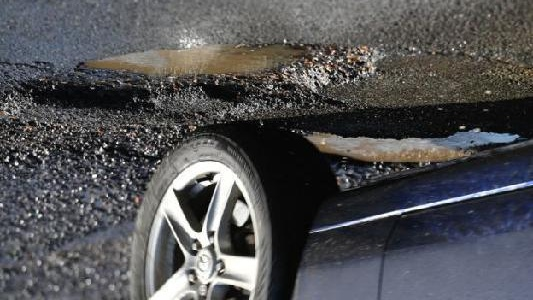pothole: (21, 38, 383, 114)
